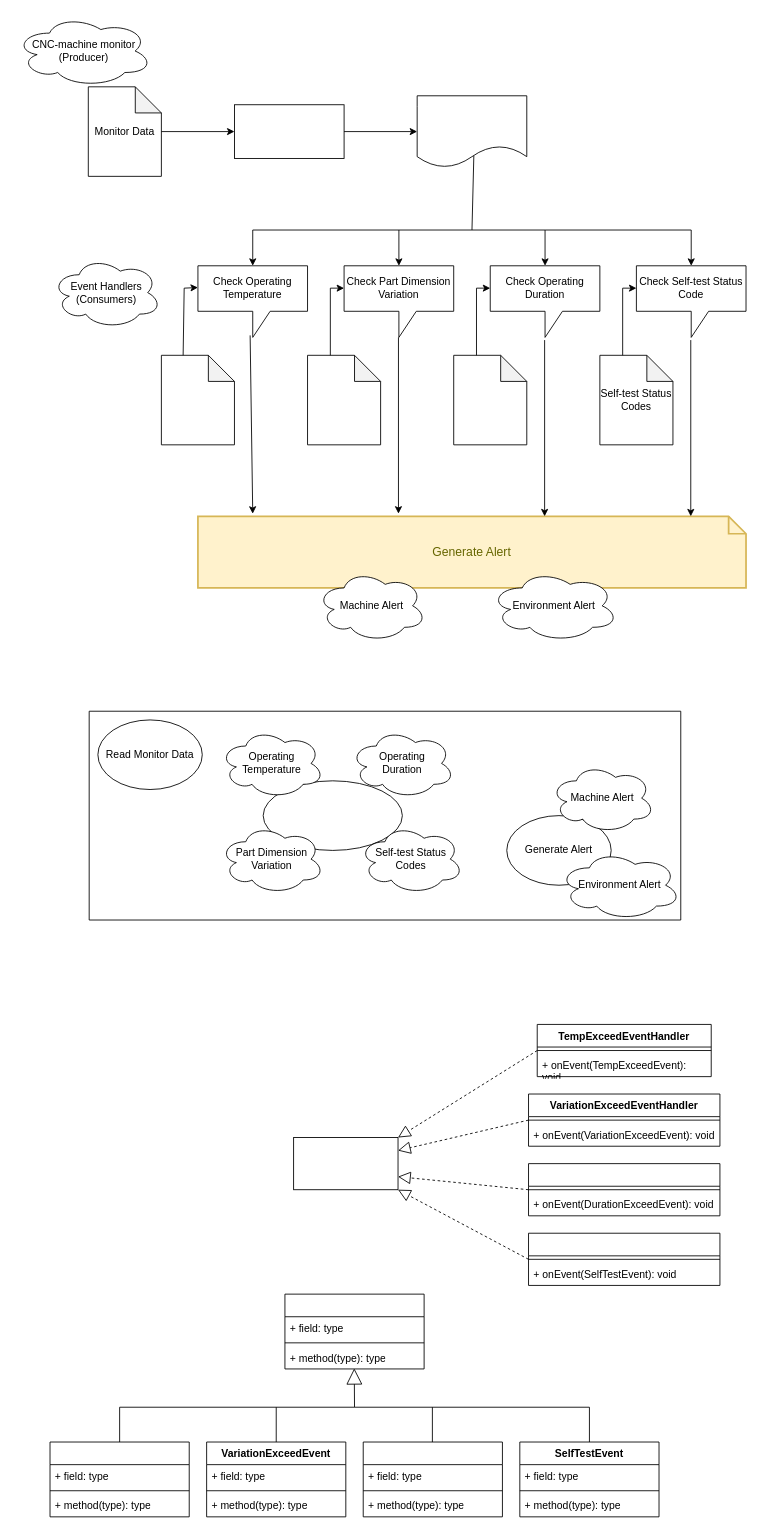
Image size: 762x1535. Some labels were removed from this diagram. The box of each missing label's shape, as (x1, y1, x2, y2) in pixels:
Analyze Monitor Data: (262, 780, 402, 850)
DurationExceedEvent: (362, 1441, 502, 1517)
DurationExceedEventHandler: (528, 1163, 720, 1216)
Event: (284, 1293, 424, 1369)
Event Broker: (416, 95, 527, 167)
Max. Duration Parameter: (453, 354, 527, 445)
Max. Temp. Parameter: (161, 354, 234, 445)
Max. Variation Parameter: (307, 354, 381, 445)
Monitor Data Reader: (234, 104, 344, 158)
SelfTestEventHandler: (528, 1232, 720, 1285)
TempExceedEvent: (49, 1441, 189, 1517)
«interface» EventHandler onEvent(Event): void: (293, 1137, 398, 1190)
